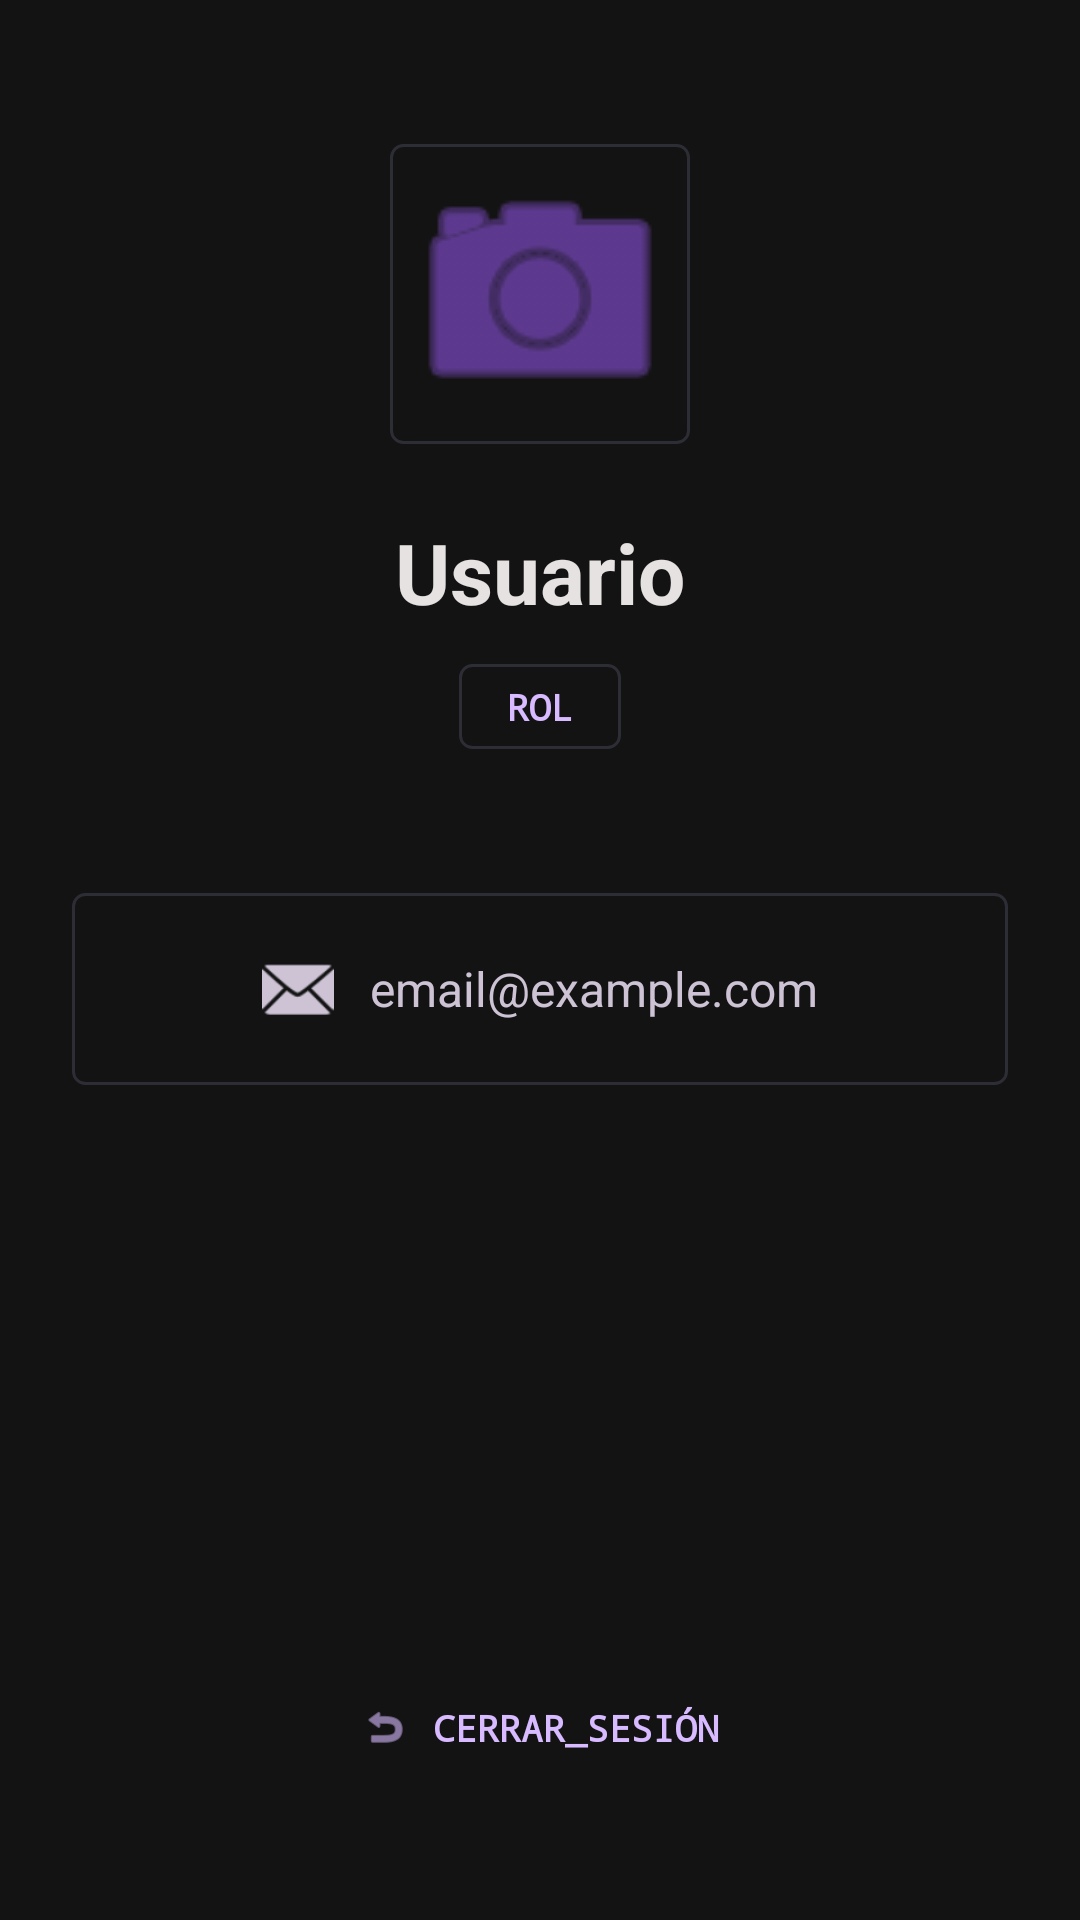

Locate icon controls on the screen. Image size 1080 x 1920, boxes as (x1,y1,x2,y2).
camera: (390,144,690,444)
revert: (368,1712,403,1743)
